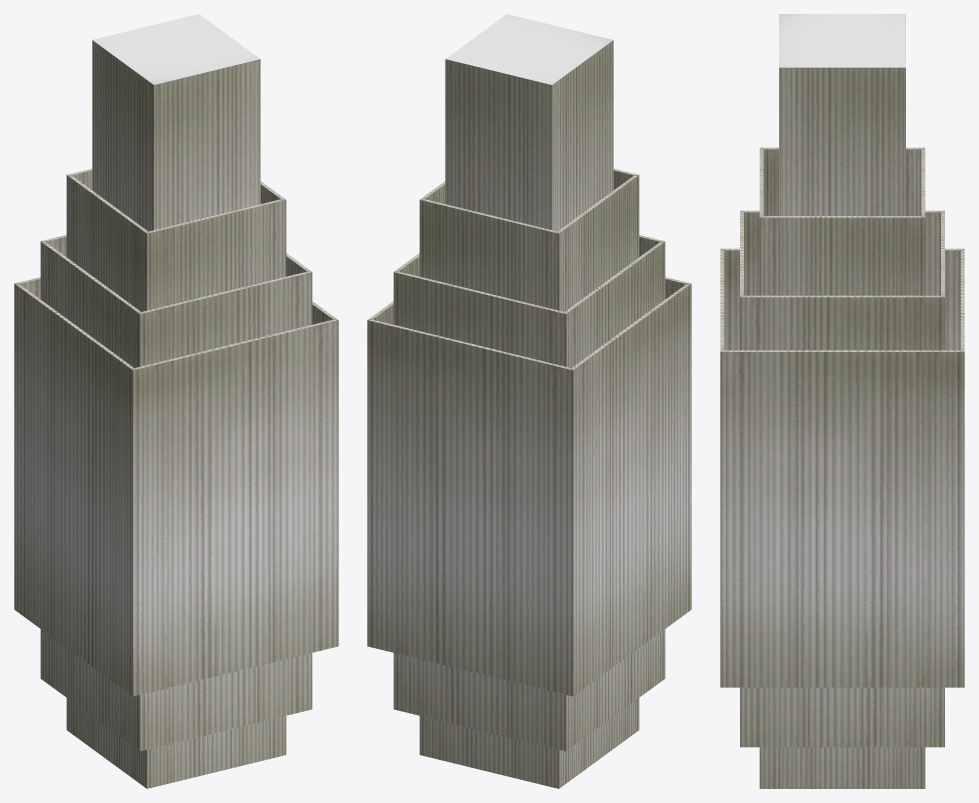
The model's file is corporate_chandelier_2.fbx.
3 views of the same model, side by side, from view 1: azimuth 30°, elevation 25°; view 2: azimuth 150°, elevation 25°; view 3: azimuth 270°, elevation 25° (orthographic). The views are drawn at different scales.
Parts seen in each view (by area): view 1: mesh_1; view 2: mesh_1; view 3: mesh_1.
Boxes of the visible parts, left/top/right/bottom form: mesh_1: left=14, top=14, right=338, bottom=788; mesh_1: left=367, top=14, right=691, bottom=788; mesh_1: left=720, top=14, right=964, bottom=788.
Size of the model in its own units: 68.4 by 220 by 68.4.
3 materials, 3 textured.
